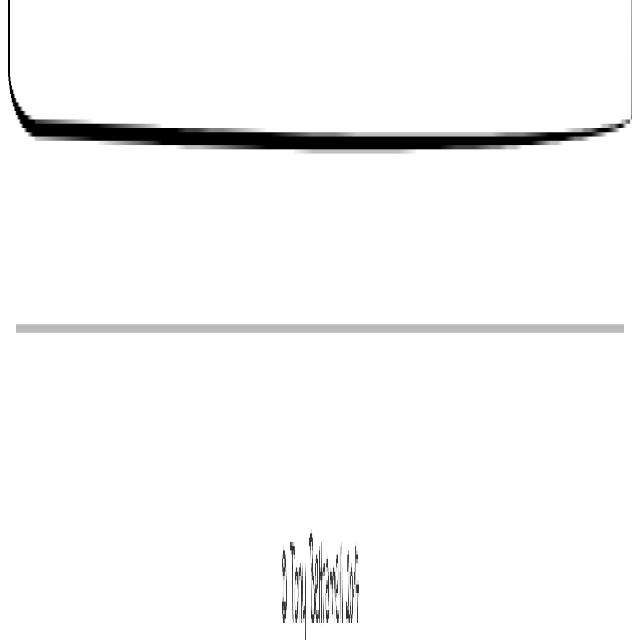Footer: (7, 183, 640, 640)
